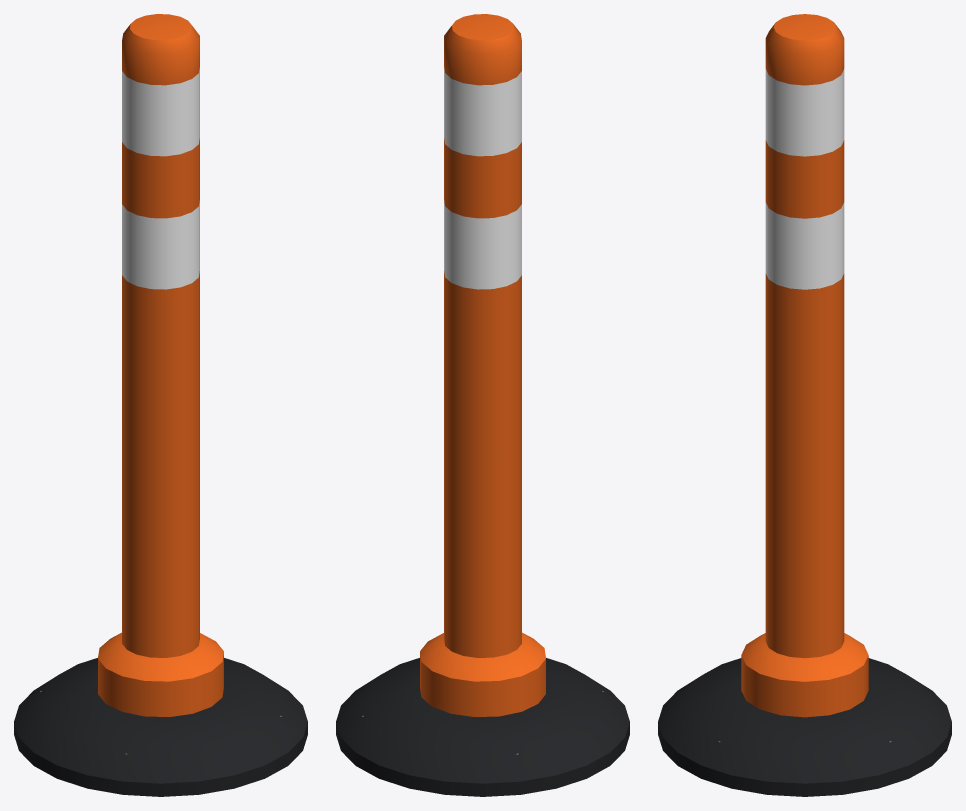
Rendered from post_cone.fbx.
The picture shows the model from 3 angles, left to right: view 1: azimuth 30°, elevation 25°; view 2: azimuth 150°, elevation 25°; view 3: azimuth 270°, elevation 25°; orthographic projection.
Parts seen in each view (by area): view 1: post_cone; view 2: post_cone; view 3: post_cone.
Boxes of the visible parts, x1=… form: post_cone: x1=14, y1=14, x2=307, y2=796; post_cone: x1=336, y1=14, x2=629, y2=796; post_cone: x1=658, y1=14, x2=951, y2=796.
Bounding box in the file's own units: 0.3 × 0.8 × 0.3.
